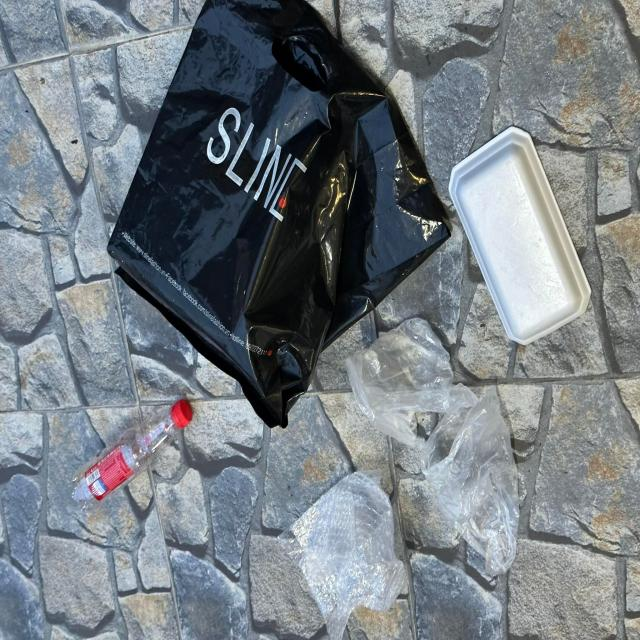bag: (107, 0, 452, 428), (277, 472, 409, 640), (422, 383, 522, 575), (344, 316, 479, 444)
bottle: (70, 398, 193, 516)
foam box: (448, 126, 592, 345)
